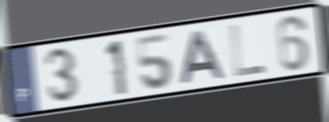1: (104, 37, 130, 98)
3: (42, 45, 81, 106)
5: (133, 30, 175, 91)
6: (275, 13, 311, 74)
A: (179, 28, 228, 86)
L: (228, 23, 268, 79)
